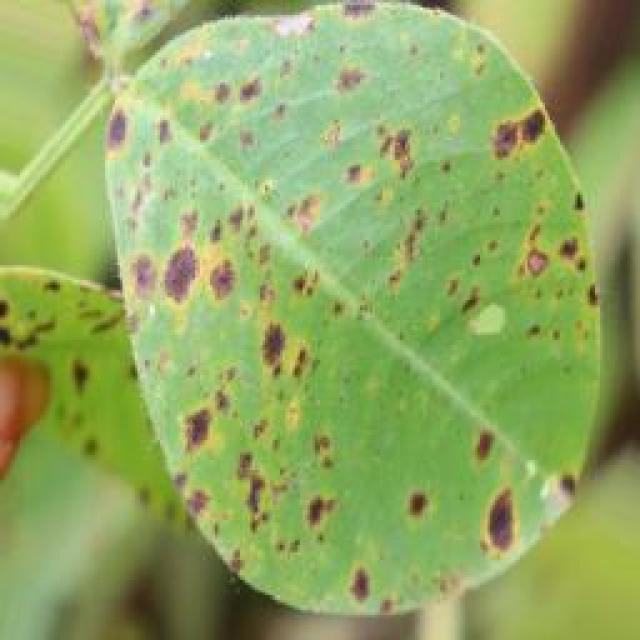Yellowish: (95, 8, 625, 594)
